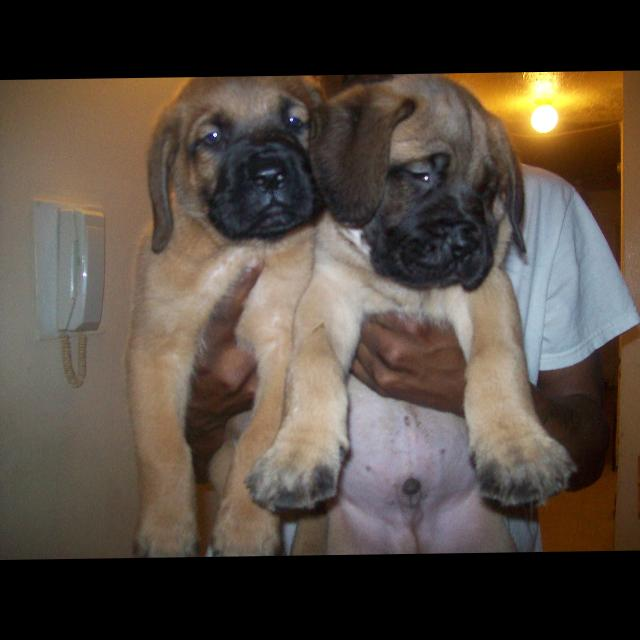mastiff: (251, 75, 580, 558), (126, 77, 327, 560)
